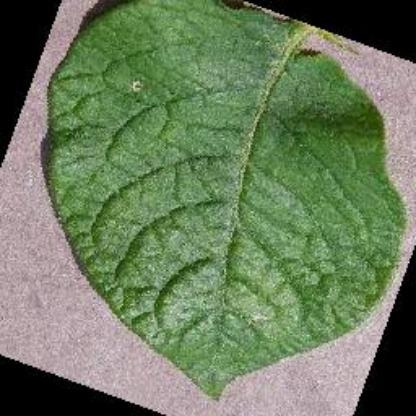Healthy-plant: (44, 0, 408, 402)
